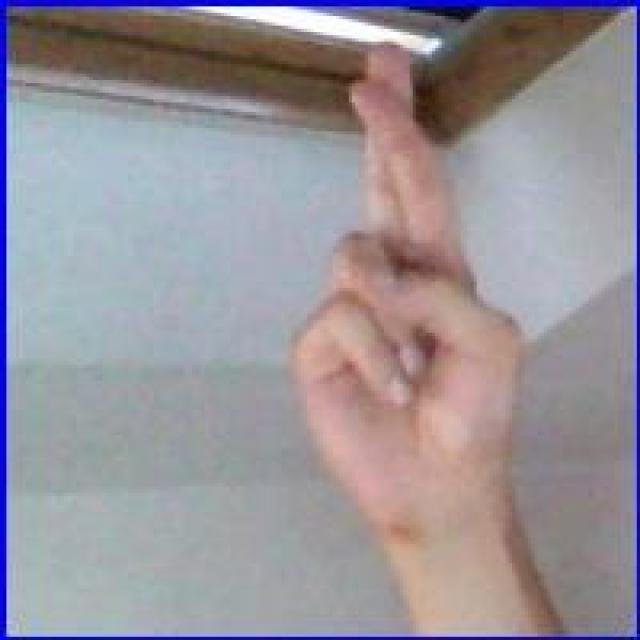R: (283, 37, 530, 530)
